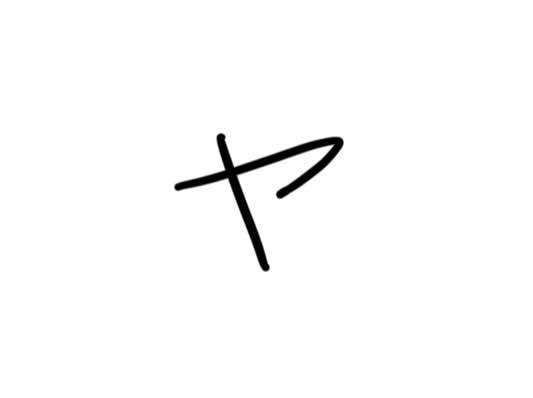ya: (158, 119, 352, 279)
